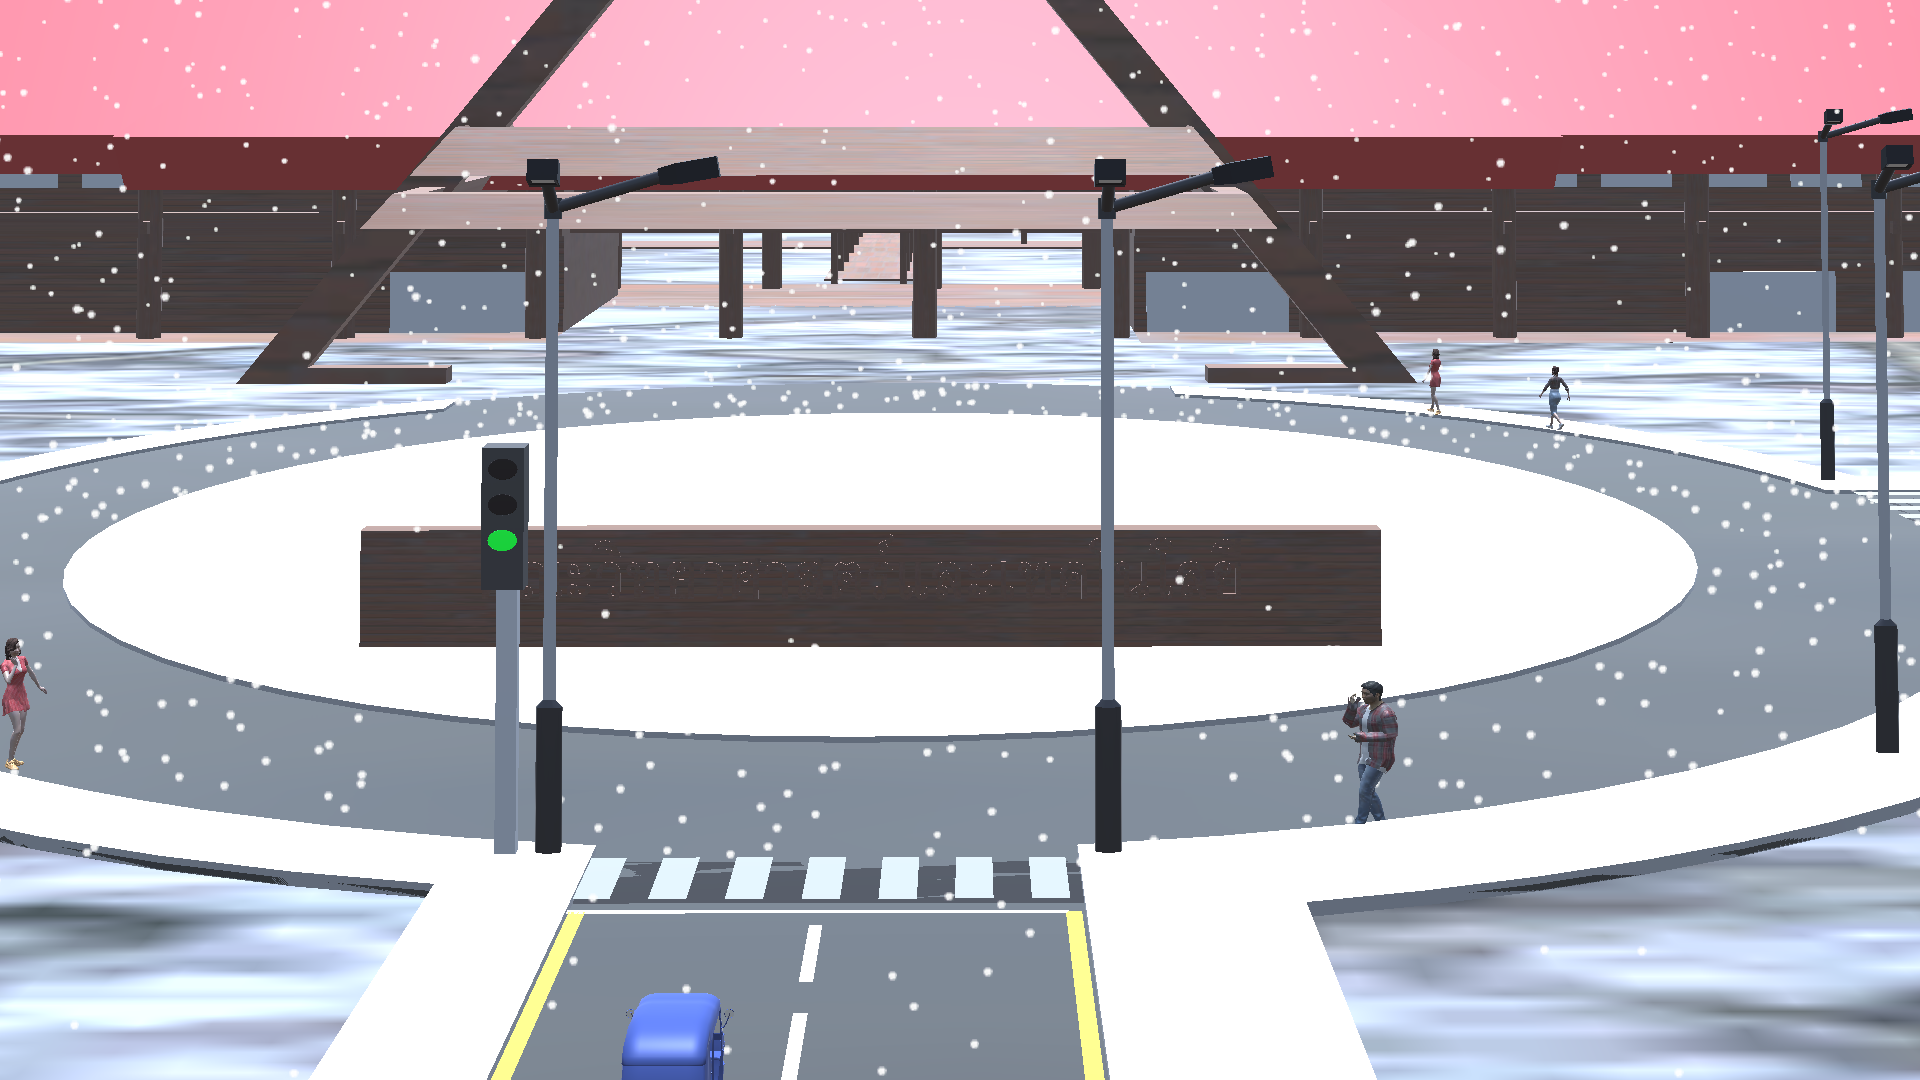pedestrian: (1333, 675, 1400, 830), (1, 635, 40, 779), (1416, 346, 1458, 416), (1541, 362, 1572, 434)
